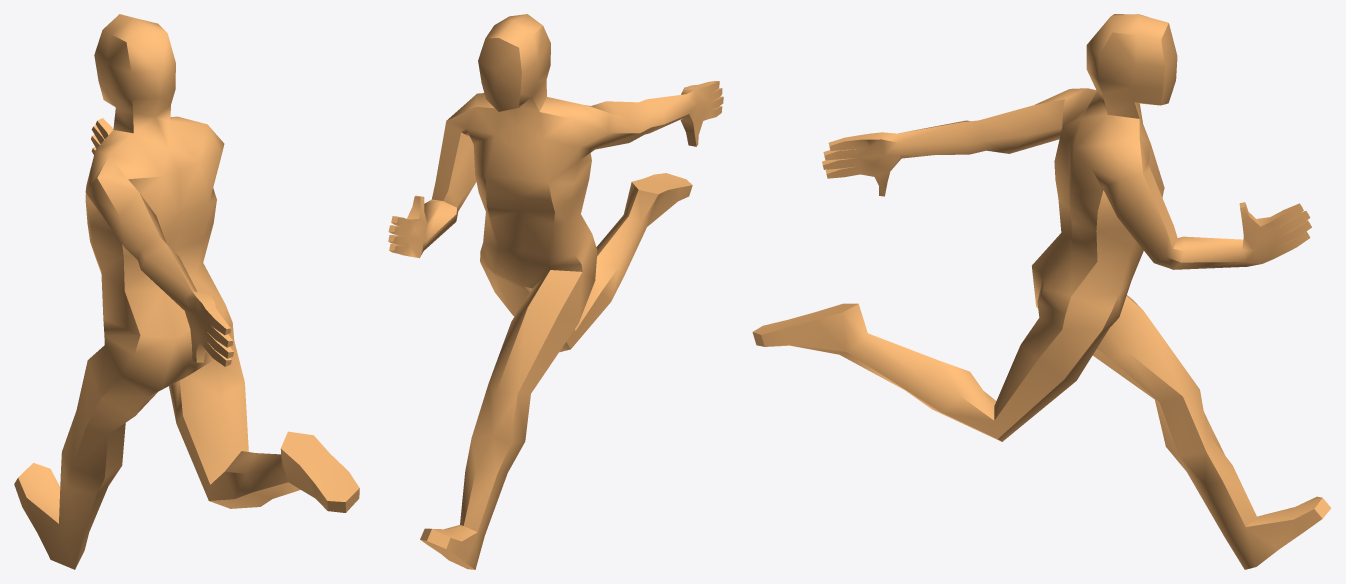
Rendered from human30.obj.
3 renders of one model, left to right at view 1: azimuth 30°, elevation 25°; view 2: azimuth 150°, elevation 25°; view 3: azimuth 270°, elevation 25°, orthographic. The views are drawn at different scales.
Visible parts, largest first — view 1: HumanMale; view 2: HumanMale; view 3: HumanMale.
Boxes of the visible parts, x1,y1,x2,y2 form: HumanMale: [14, 14, 359, 569]; HumanMale: [388, 14, 723, 569]; HumanMale: [752, 14, 1331, 569].
Size of the model in its own units: 0.507 by 1.73 by 1.63.
